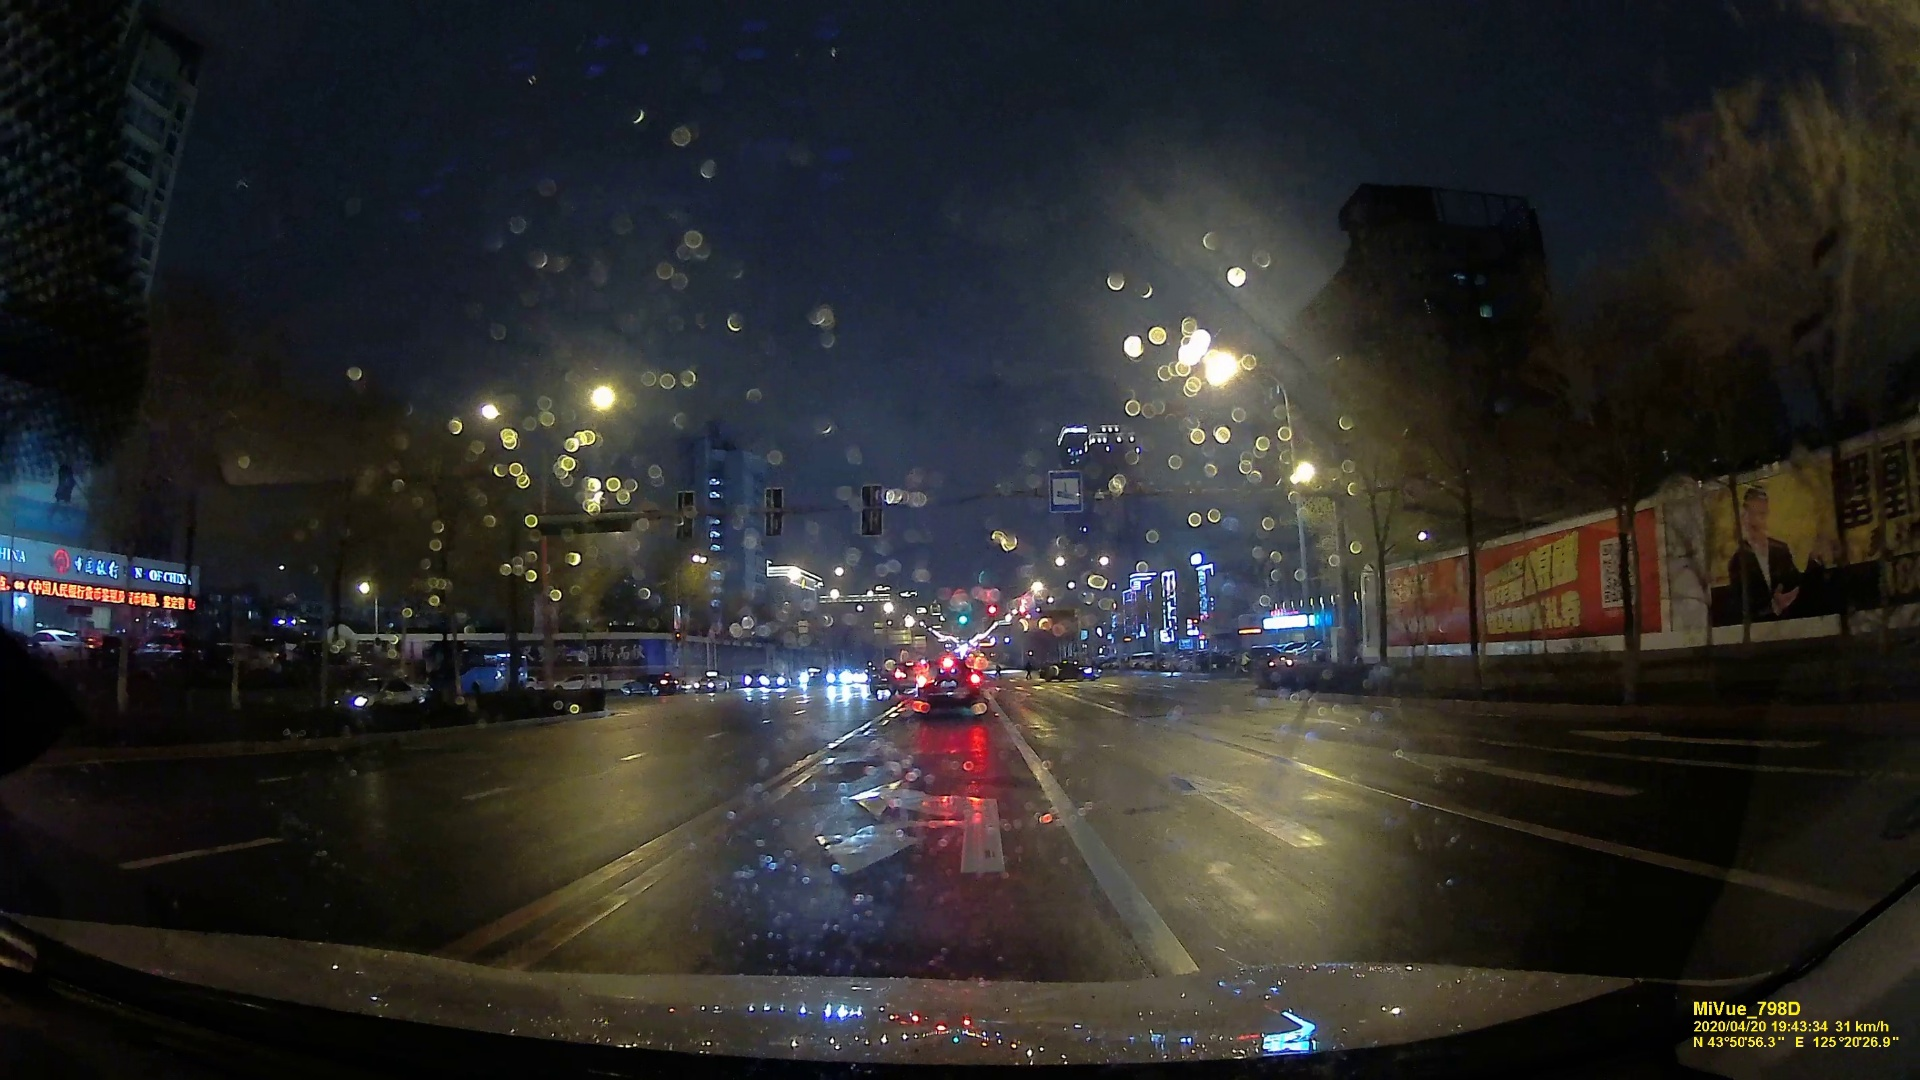person: (1023, 660, 1034, 681), (993, 662, 1001, 680)
traffic_sign: (1046, 470, 1084, 510)
vehicle: (919, 661, 984, 719), (1039, 657, 1101, 683), (621, 671, 680, 697), (744, 667, 786, 689), (692, 674, 727, 694)
